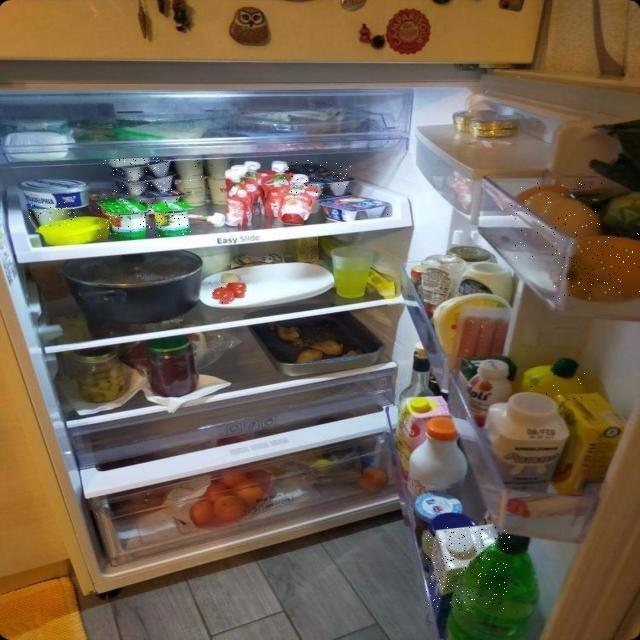eggs: (511, 182, 603, 258)
lemon: (553, 232, 640, 299), (529, 357, 587, 403)
milk: (425, 526, 510, 610), (414, 417, 468, 521)
tomatoes: (209, 284, 252, 304)
yoghurt: (284, 160, 352, 198), (317, 191, 389, 222), (170, 157, 213, 207), (97, 197, 148, 239), (150, 202, 192, 236), (111, 159, 173, 179), (28, 202, 76, 227), (112, 175, 174, 193), (126, 189, 184, 207), (100, 158, 158, 165)
